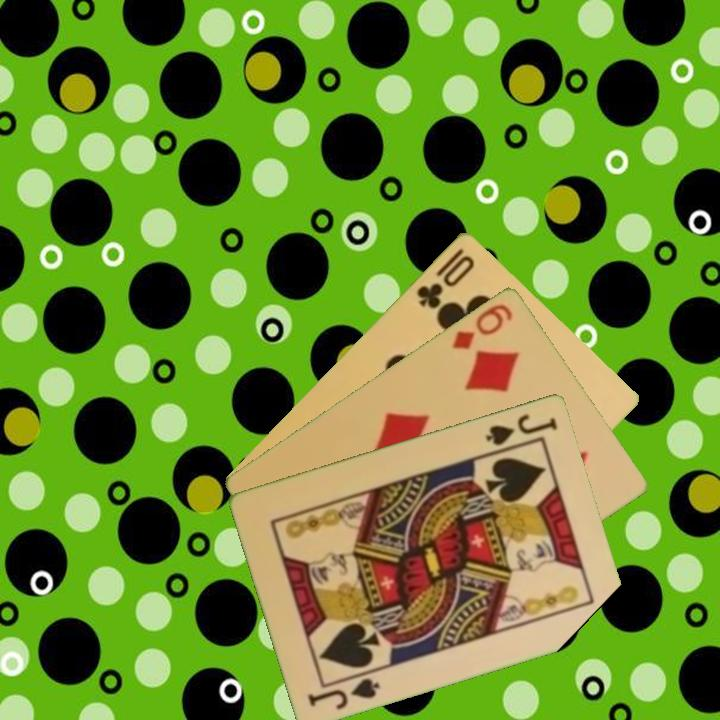10c: (413, 244, 478, 312)
6d: (448, 299, 516, 352)
Js: (304, 667, 383, 712), (482, 410, 561, 448)
